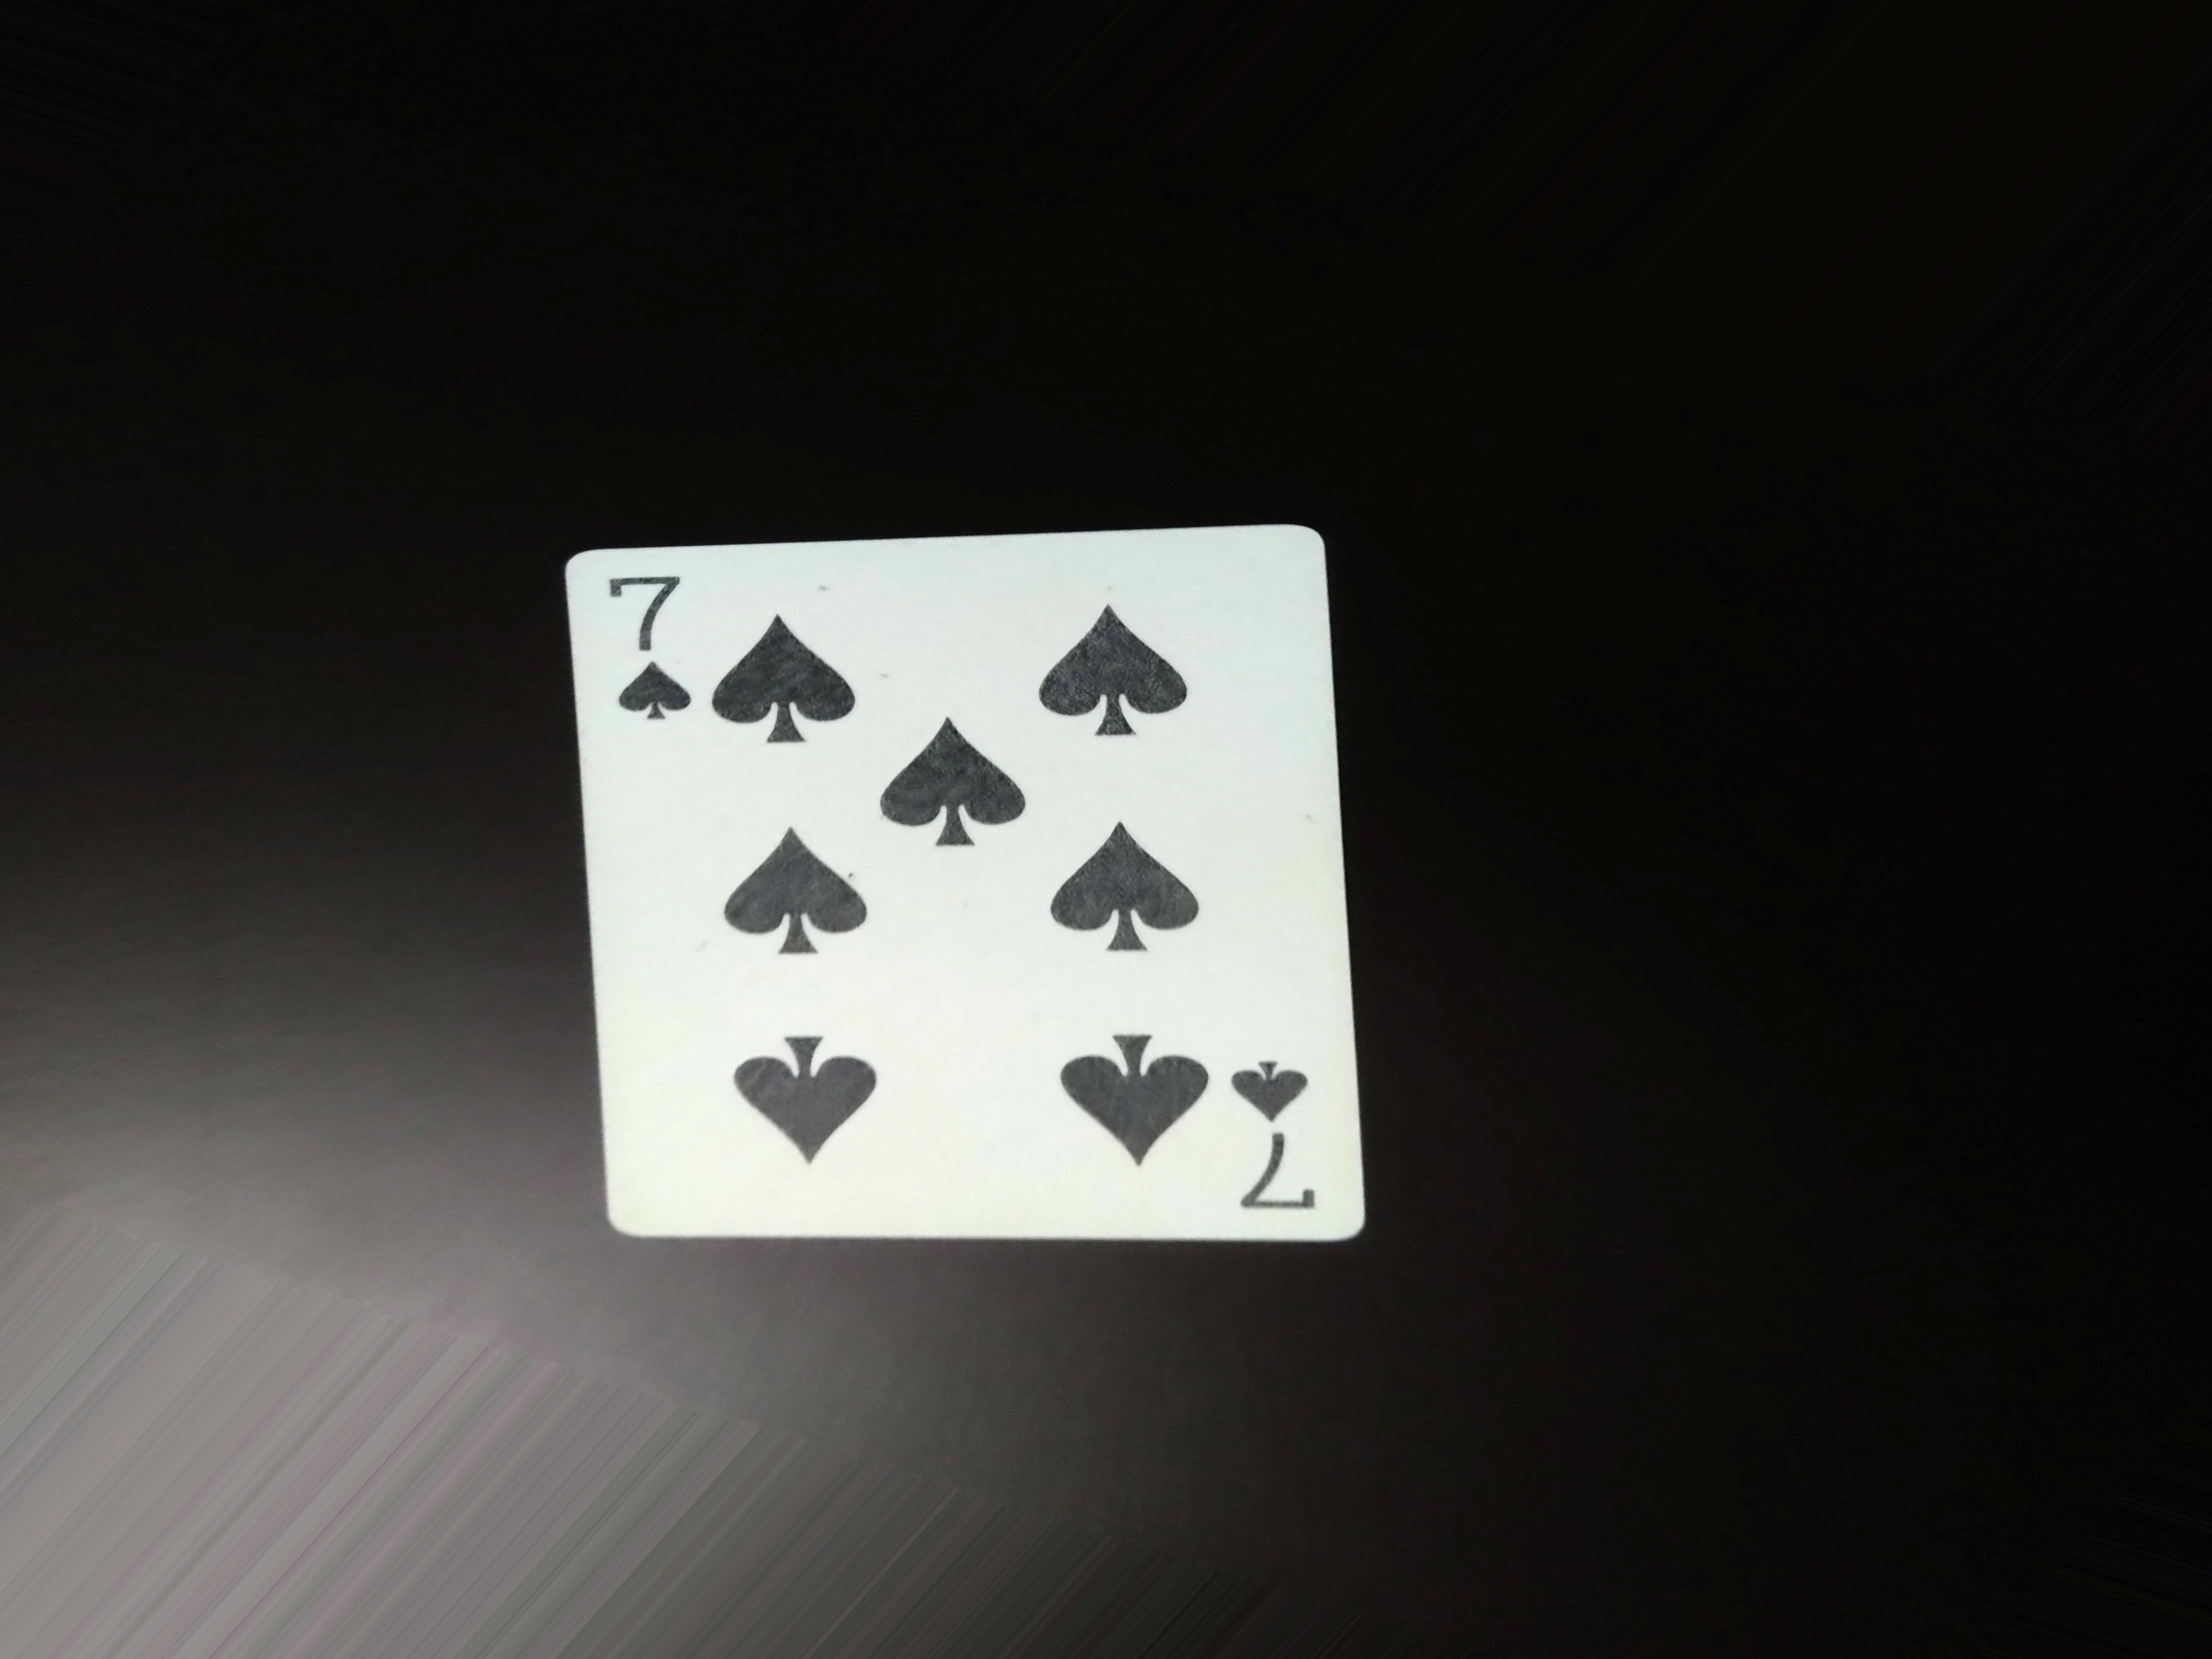7S: (615, 554, 695, 749)
